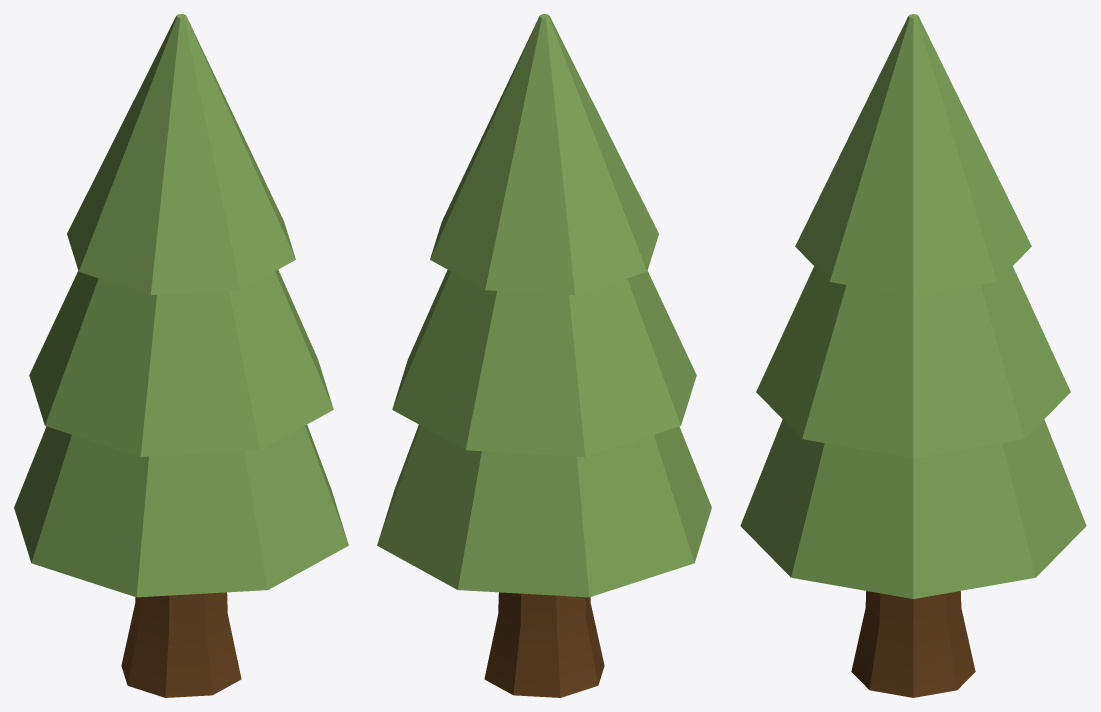
The model's file is treeConifer.dae.
3 views of the same model, side by side, from view 1: azimuth 30°, elevation 25°; view 2: azimuth 150°, elevation 25°; view 3: azimuth 270°, elevation 25° (orthographic).
Visible parts, largest first — view 1: Tree_Conifer_02; view 2: Tree_Conifer_02; view 3: Tree_Conifer_02.
Boxes of the visible parts, x1=… form: Tree_Conifer_02: x1=14, y1=14, x2=348, y2=697; Tree_Conifer_02: x1=377, y1=14, x2=711, y2=697; Tree_Conifer_02: x1=740, y1=14, x2=1086, y2=697.
Size of the model in its own units: 314 by 656 by 314.
